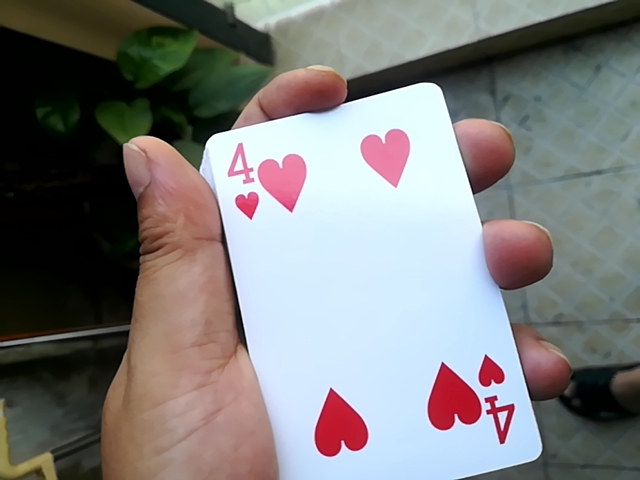hx 4: (195, 80, 535, 480)
